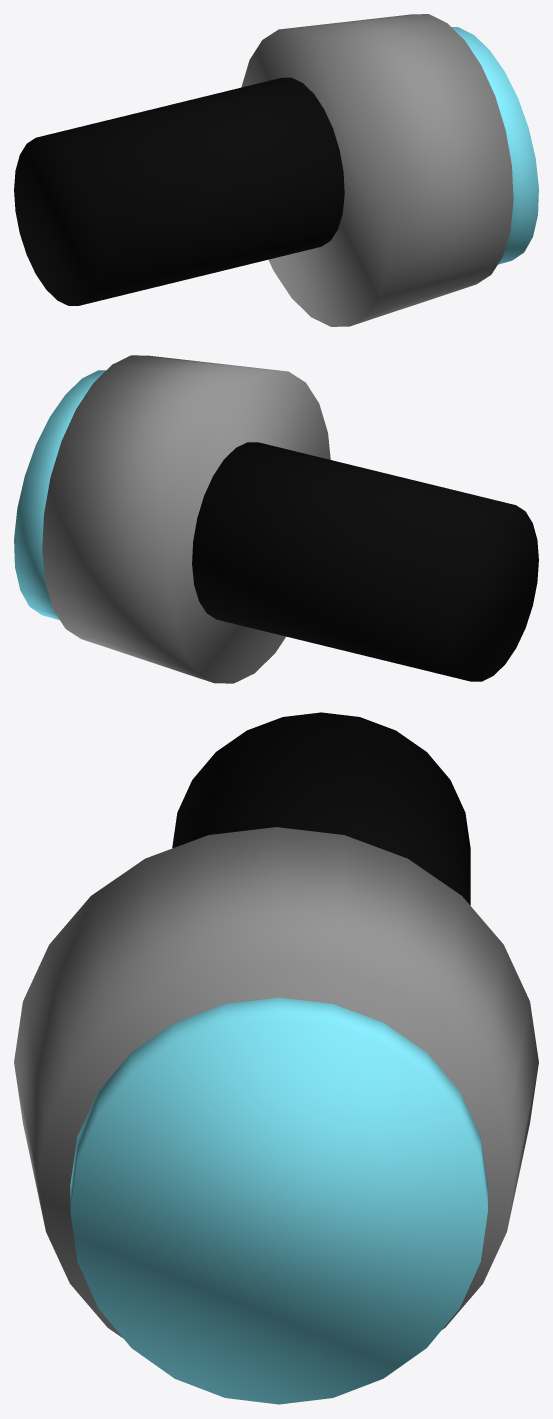
File: torch.fbx
3 views of the same model, one above another, from view 1: azimuth 30°, elevation 25°; view 2: azimuth 150°, elevation 25°; view 3: azimuth 270°, elevation 25° (orthographic). The views are drawn at different scales.
Visible parts, largest first — view 1: Sphere.004, Sphere.001, Sphere.002; view 2: Sphere.004, Sphere.001, Sphere.002; view 3: Sphere.002, Sphere.001, Sphere.004.
Part boxes in pixels (box(x1,y1,x2,y2)): Sphere.004: box(14, 77, 344, 305); Sphere.001: box(241, 14, 513, 326); Sphere.002: box(451, 27, 538, 264); Sphere.004: box(192, 442, 538, 681); Sphere.001: box(42, 355, 330, 683); Sphere.002: box(14, 370, 105, 620); Sphere.002: box(70, 997, 487, 1404); Sphere.001: box(14, 827, 538, 1337); Sphere.004: box(172, 712, 470, 905).
Size of the model in its own units: 137 by 87.98 by 88.
